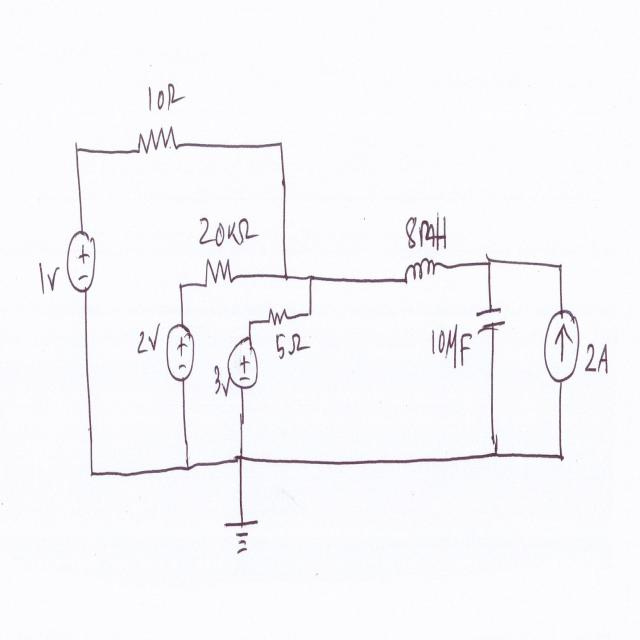capacitor: (472, 302, 509, 338)
current_source: (540, 302, 582, 392)
ground: (220, 514, 264, 561)
inductor: (395, 255, 438, 291)
resistor: (132, 121, 181, 164), (199, 251, 235, 298), (265, 300, 290, 333)
voltage_source: (64, 223, 100, 305), (163, 312, 198, 392), (227, 329, 260, 397)
